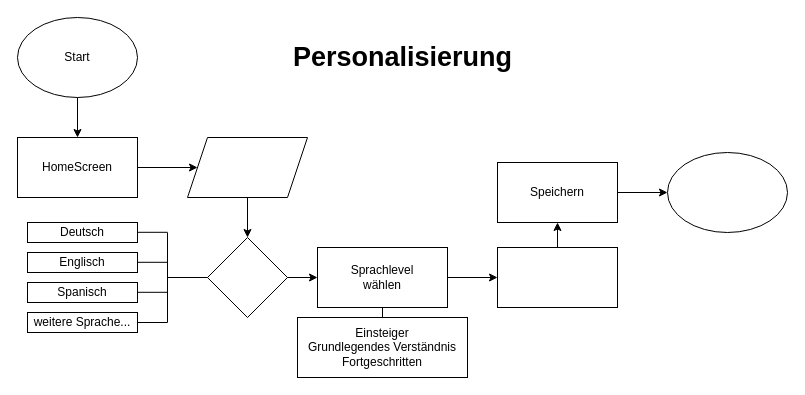
Image size: 805x395. Some labels were removed from this diagram. The shapes that lost their labels are listed below. From the top down, each one's centre as x and y in pixels, then its label:
At point (247, 167): "Settings Tab öffnen".
At point (727, 192): "End".
At point (247, 277): "Sprache wählen?".
At point (557, 277): "Profildaten eingeben (optional)".
